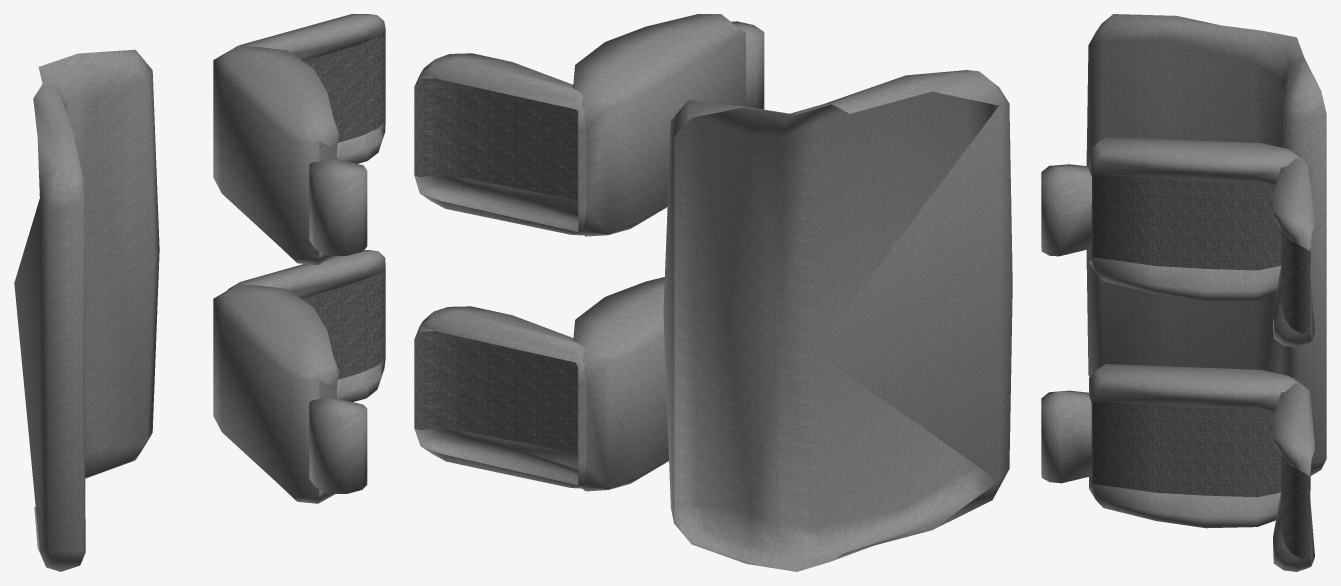
File: seats.obj
The picture shows the model from 3 angles, left to right: view 1: azimuth 30°, elevation 25°; view 2: azimuth 150°, elevation 25°; view 3: azimuth 270°, elevation 25°; orthographic projection. The views are drawn at different scales.
Parts seen in each view (by area): view 1: 3_-_Default, 4_-_Default; view 2: 3_-_Default, 4_-_Default; view 3: 3_-_Default, 4_-_Default.
Part boxes in pixels (x1,y1,x2,y2): 3_-_Default: (14,14,385,571); 4_-_Default: (301,29,385,379); 3_-_Default: (414,14,1012,571); 4_-_Default: (414,78,578,456); 3_-_Default: (1041,14,1326,571); 4_-_Default: (1093,174,1310,559).
Bounding box in the file's own units: 1.45 × 1.33 × 0.846.
Materials: 2 (2 with a texture image).
